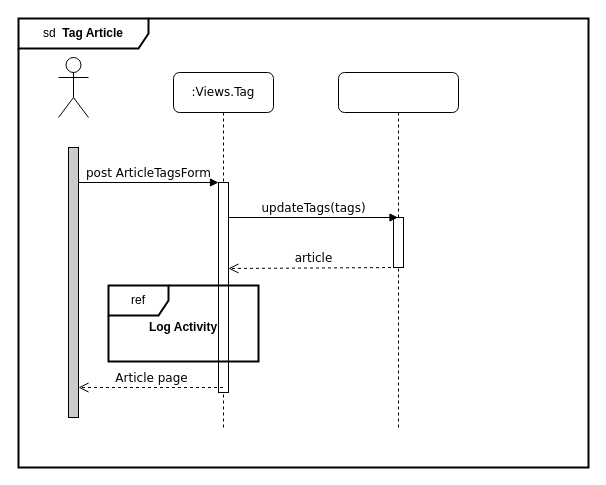
This 606x485 diagram has some shape labels left out. Here are the shapes that lost their labels. From the top down, the centre of each, then its label:
the point at 73,87: User
the point at 398,250: :Models.Article
